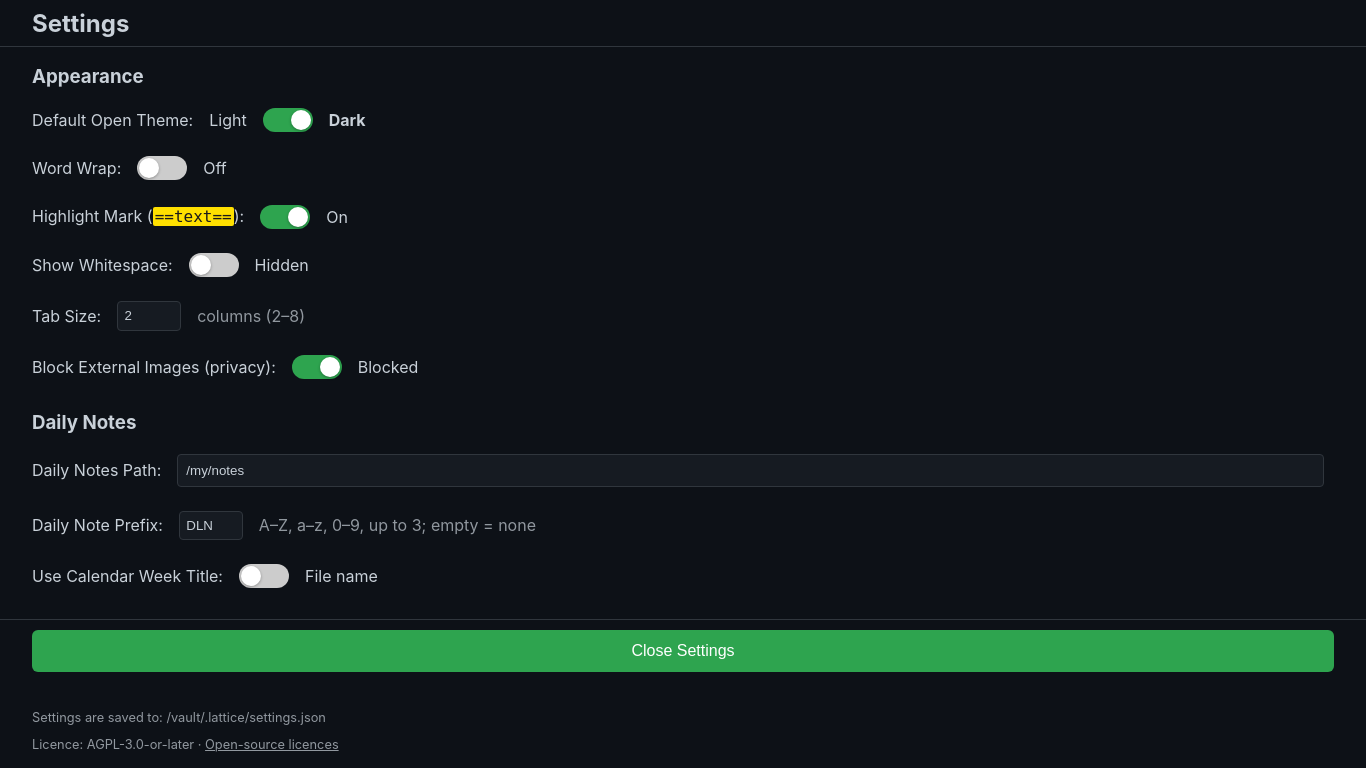
Scenario: Settings — open-source licences › reports a build packaged without the notices
The width and height of the screenshot is (1366, 768).
Click the button with test id "open-licences": [272, 745] box [205, 733, 339, 757]
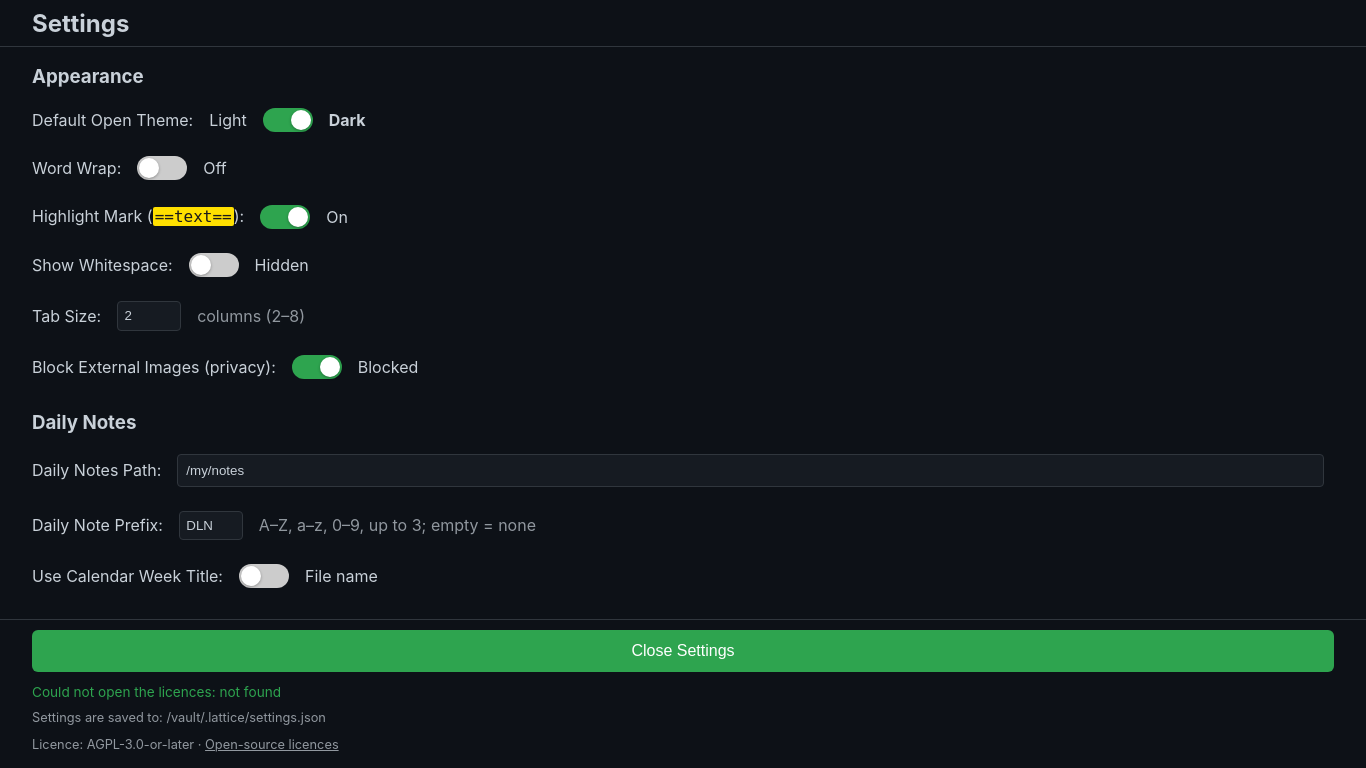
Now the text "Could not open the licences: not found" is shown, box [32, 684, 281, 700]
